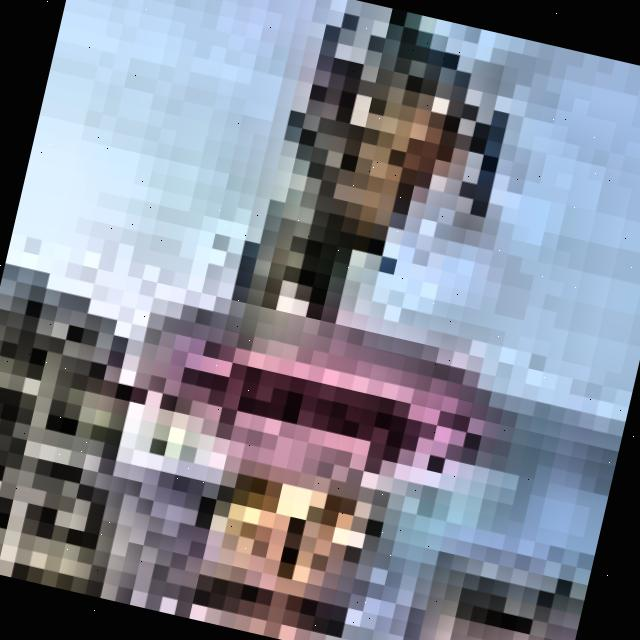alexander the great monument: (91, 0, 597, 640)
